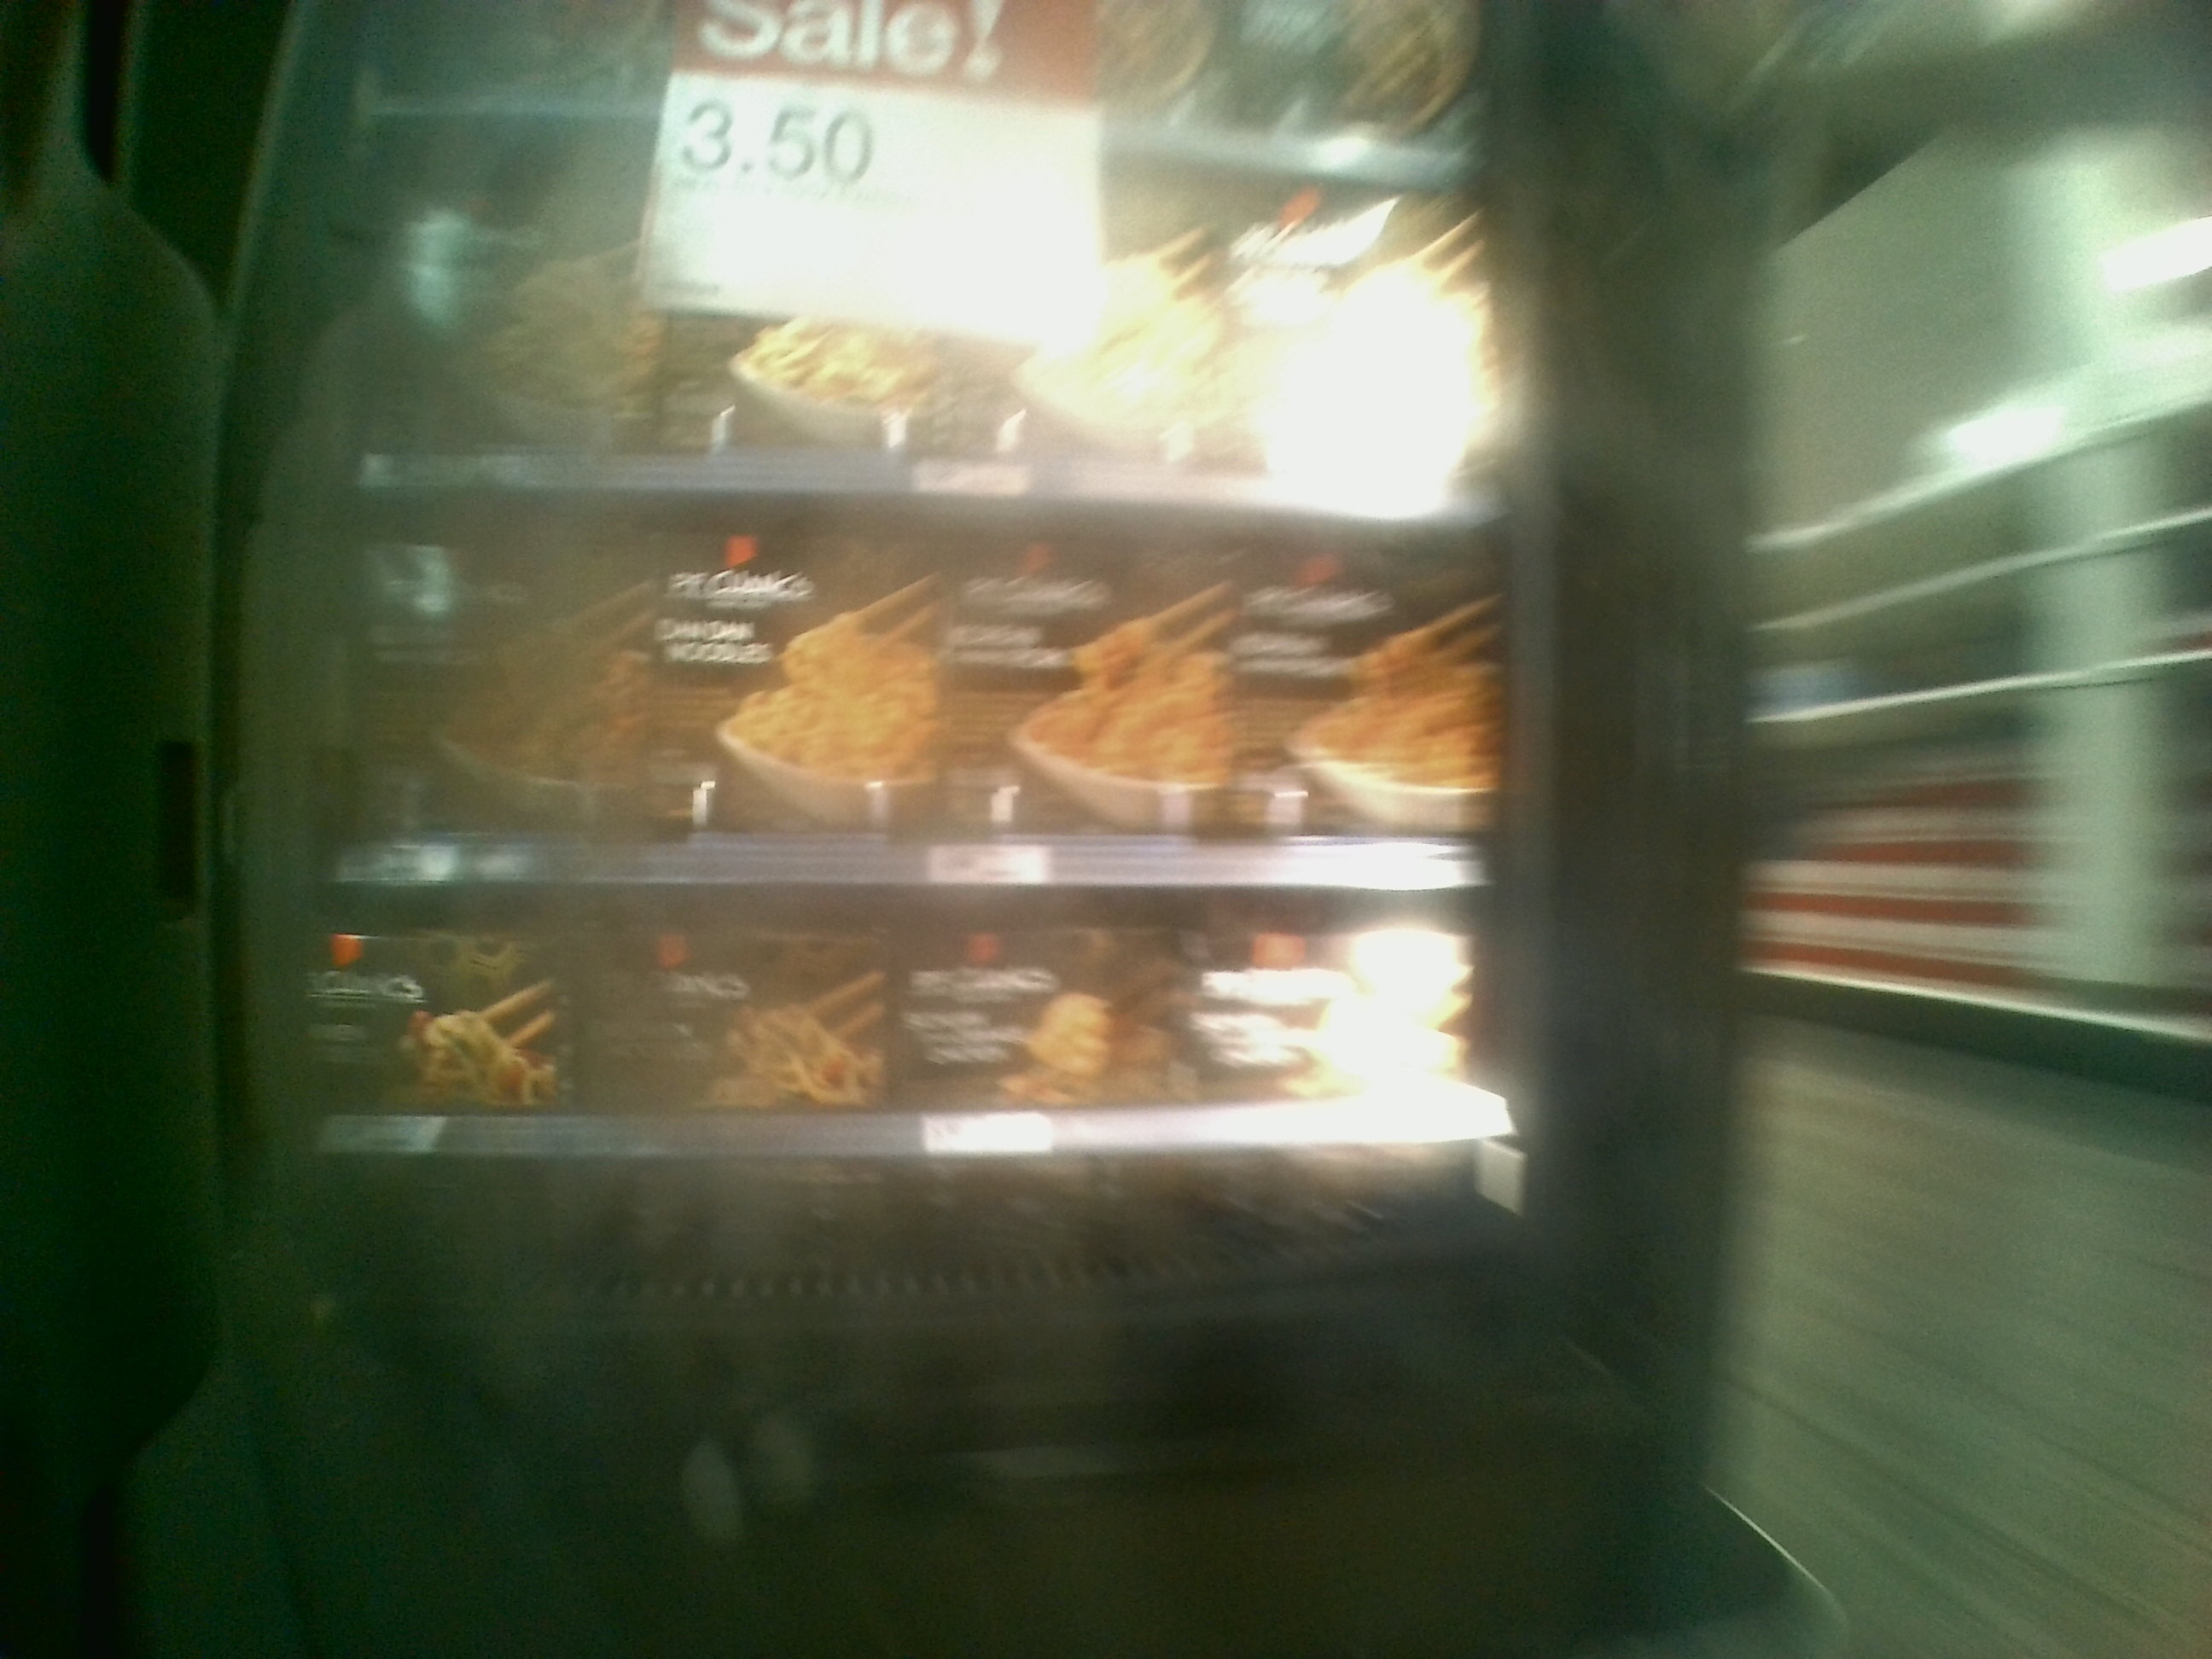shelf: (317, 864, 1517, 1309)
